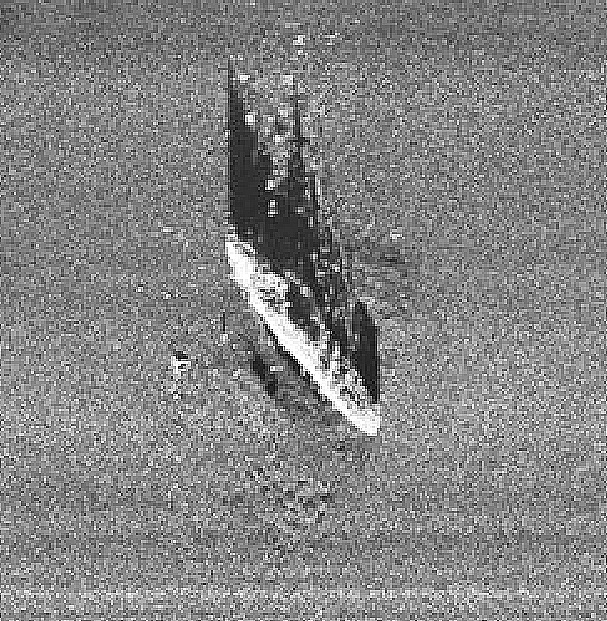ship: (223, 233, 383, 438)
